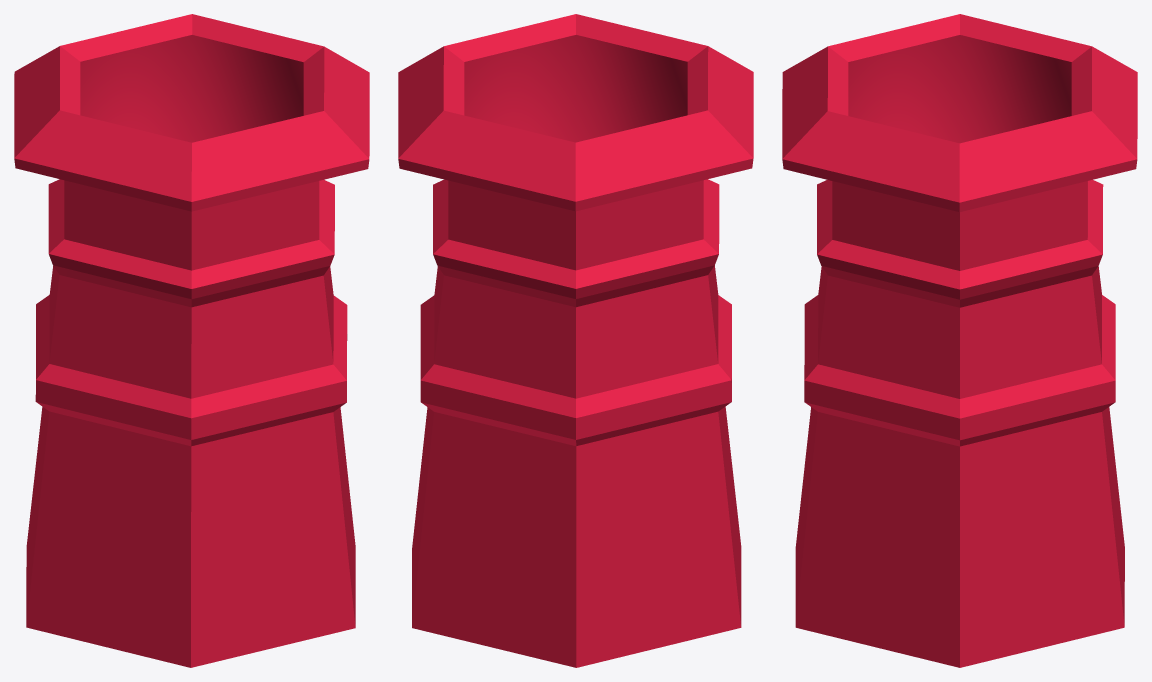
File: Bin_mesh 1.fbx
3 renders of one model, left to right at view 1: azimuth 30°, elevation 25°; view 2: azimuth 150°, elevation 25°; view 3: azimuth 270°, elevation 25°, orthographic.
Visible parts, largest first — view 1: Bin_mesh; view 2: Bin_mesh; view 3: Bin_mesh.
Part boxes in pixels (<box>): Bin_mesh: <box>14,14,369,667</box>; Bin_mesh: <box>398,14,753,667</box>; Bin_mesh: <box>782,14,1137,667</box>.
Bounding box in the file's own units: 89.41 × 123 × 77.48.
